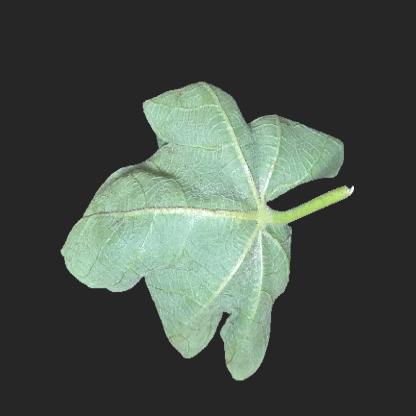curl_stage2: (158, 231, 277, 317), (160, 117, 240, 233), (112, 175, 158, 281), (243, 133, 329, 185), (225, 320, 261, 372)
